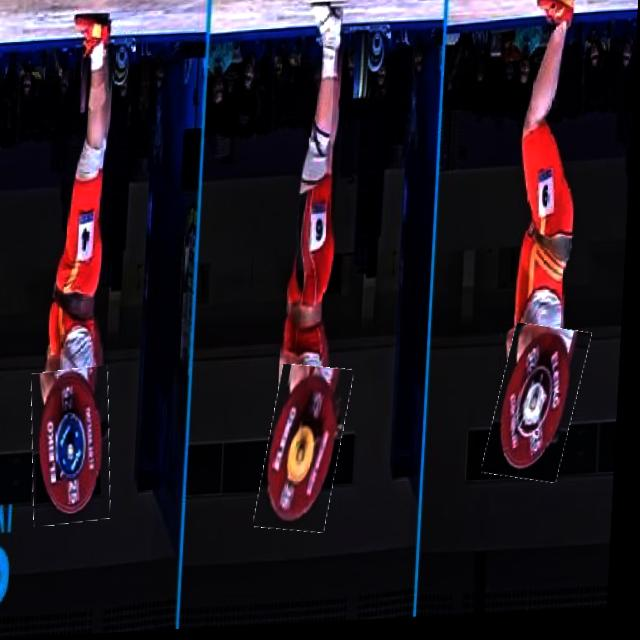barbell: (493, 330, 590, 490), (264, 368, 354, 538), (33, 369, 120, 528)
